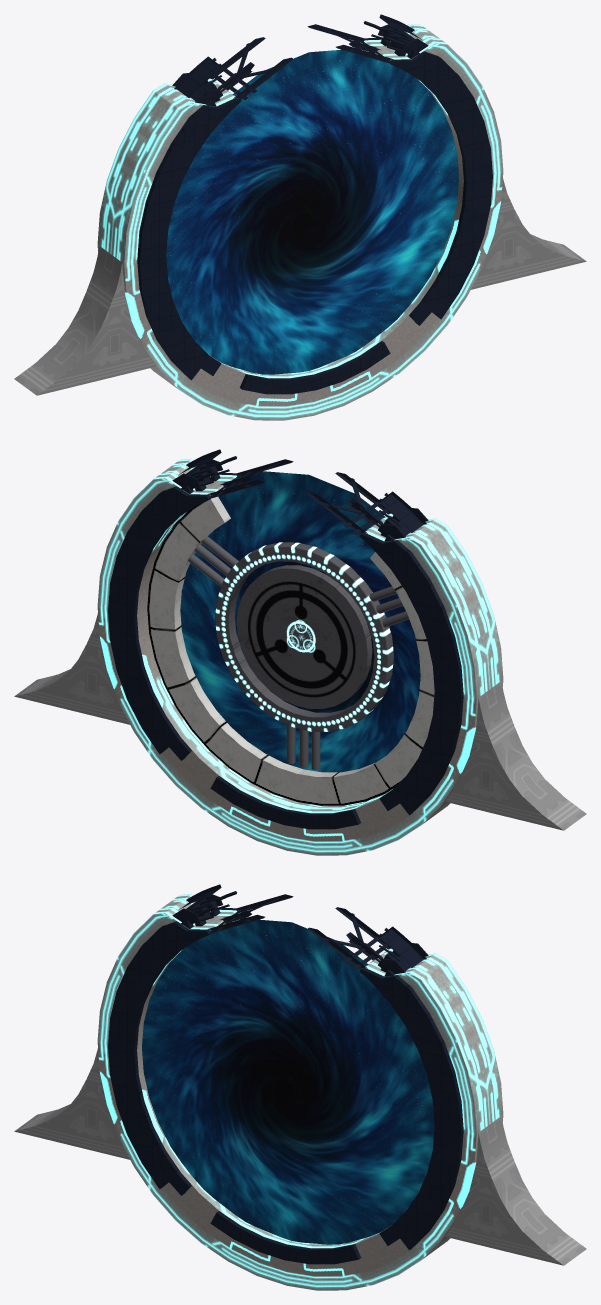
File: obj_portal_001.fbx
3 renders of one model, top to bottom at view 1: azimuth 30°, elevation 25°; view 2: azimuth 150°, elevation 25°; view 3: azimuth 330°, elevation 25°, orthographic.
Parts seen in each view (by area): view 1: m_portal_001, m_gate_001; view 2: m_gate_001, m_portal_001, m_Lt_Circle_001, m_Bg_Circle_001, m_wire_001; view 3: m_portal_001, m_gate_001.
Part boxes in pixels (x1,y1,x2,y2): m_portal_001: [166, 49, 458, 374]; m_gate_001: [14, 14, 586, 420]; m_gate_001: [14, 449, 586, 855]; m_portal_001: [180, 471, 420, 772]; m_Lt_Circle_001: [236, 565, 372, 708]; m_Bg_Circle_001: [215, 542, 393, 731]; m_wire_001: [188, 536, 408, 769]; m_portal_001: [142, 919, 434, 1244]; m_gate_001: [14, 884, 586, 1290].
Bounding box in the file's own units: 49.88 × 31.74 × 5.85.
